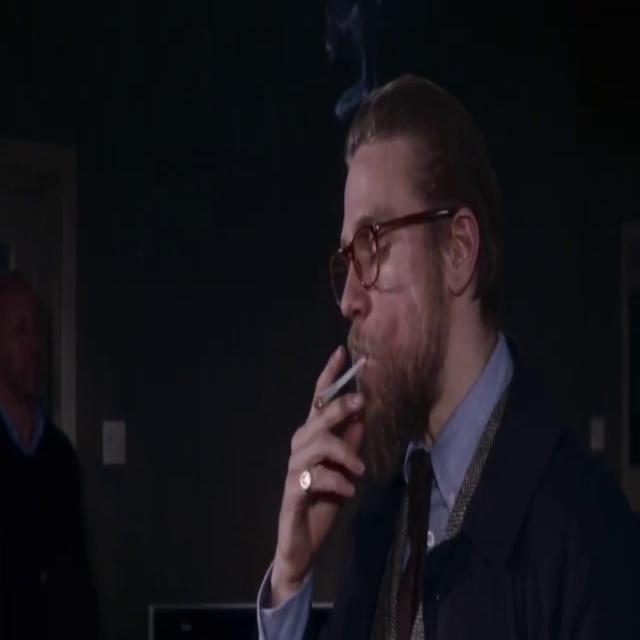Smooking: (306, 354, 366, 414)
